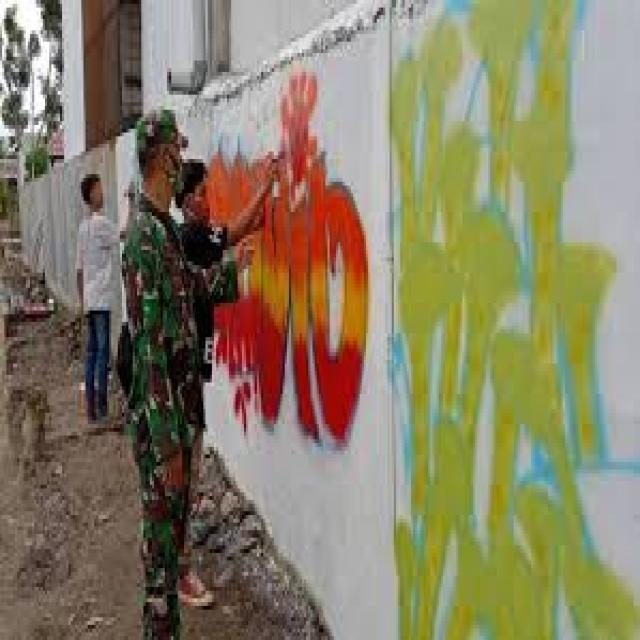-: (387, 0, 640, 640), (198, 64, 370, 458)
